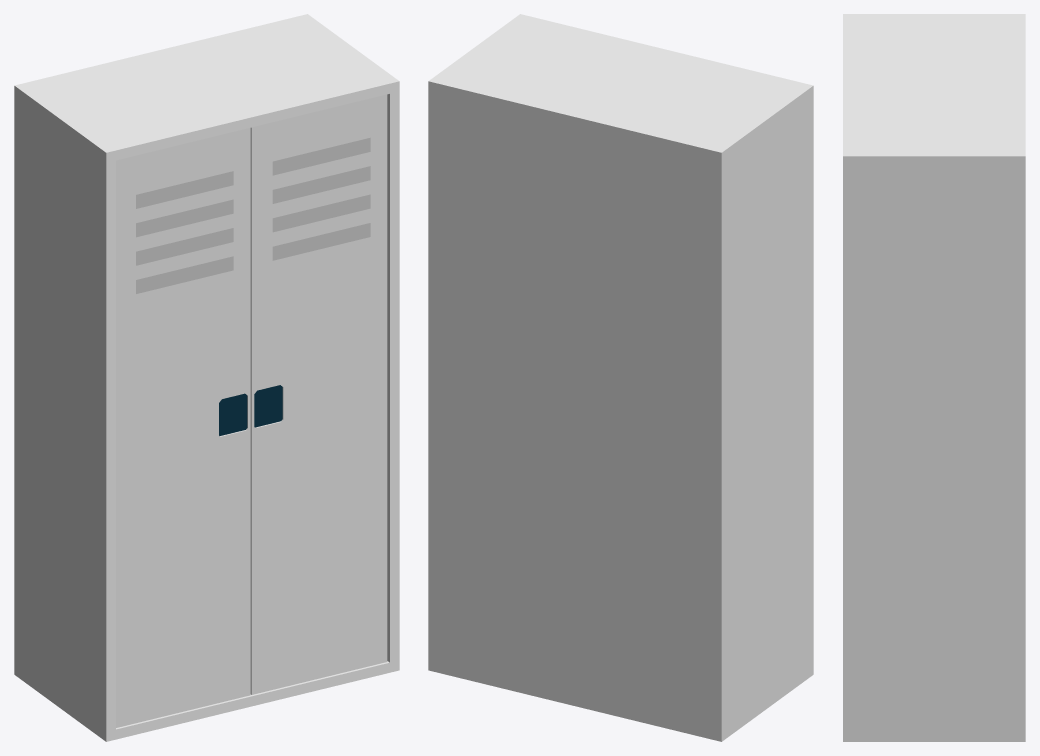
Rendered from Cabinet.005.fbx.
3 renders of one model, left to right at view 1: azimuth 30°, elevation 25°; view 2: azimuth 150°, elevation 25°; view 3: azimuth 270°, elevation 25°, orthographic.
Visible parts, largest first — view 1: Cabinet.005; view 2: Cabinet.005; view 3: Cabinet.005.
Part boxes in pixels (left/top/right/bottom): Cabinet.005: left=14, top=14, right=399, bottom=741; Cabinet.005: left=428, top=14, right=813, bottom=741; Cabinet.005: left=843, top=14, right=1025, bottom=741.
Bounding box in the file's own units: 1.21 × 2.33 × 0.6623.
